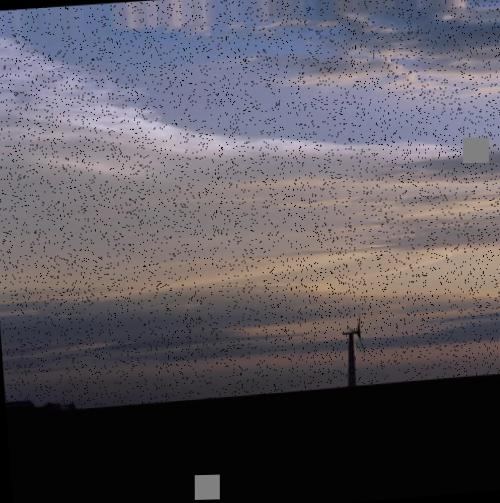wind turbine: (340, 315, 366, 389)
